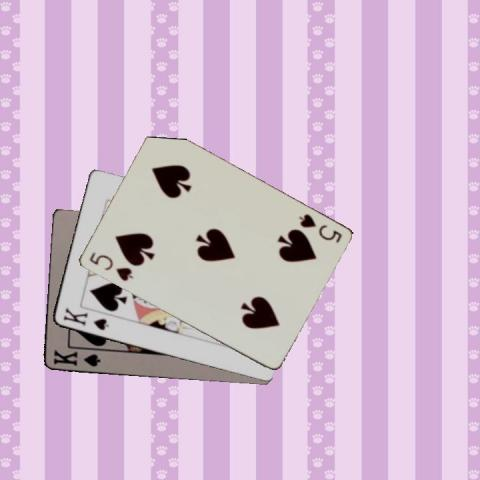5s: (294, 210, 343, 244), (86, 249, 134, 283)
Ks: (60, 305, 110, 332), (50, 346, 101, 368)
